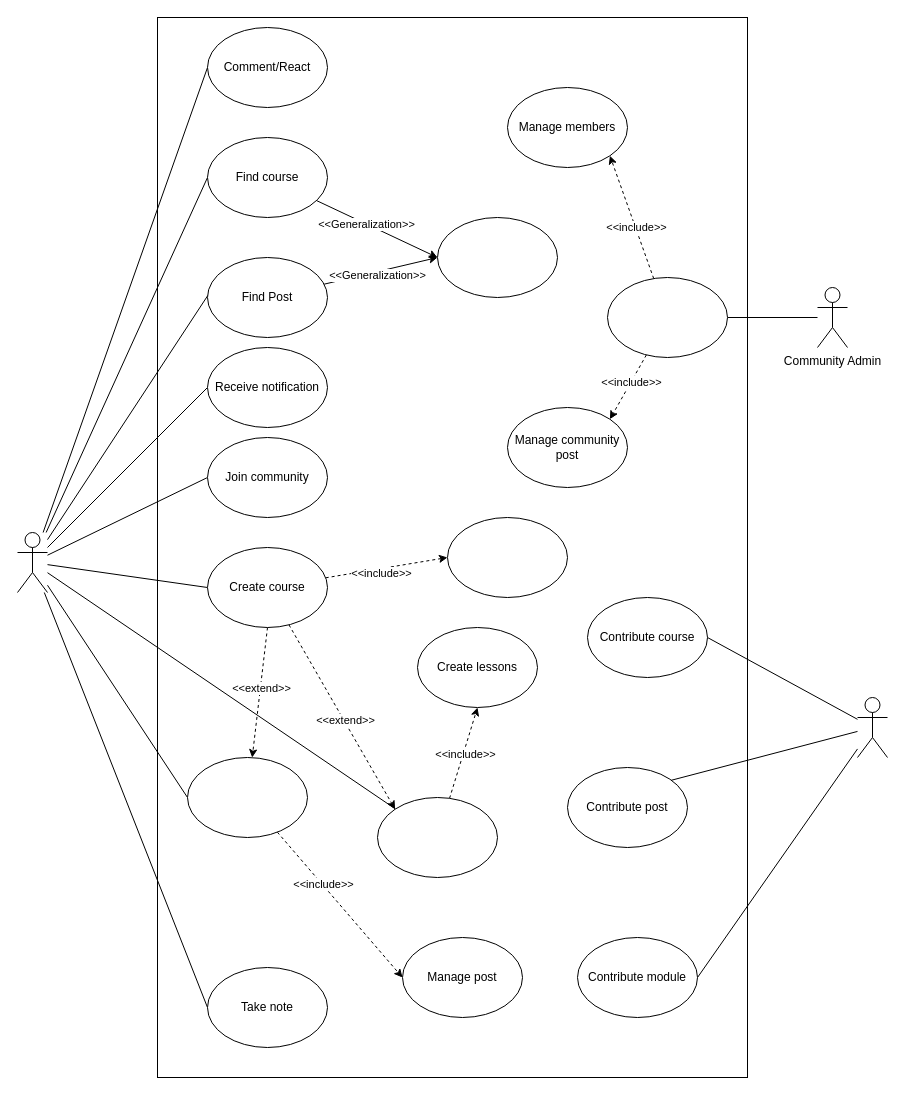
Some shapes in this 919 by 1095 pixel diagram are drawn without their labels. The shapes that lost their labels are listed below. From the top down, each one's centre as x and y in pixels, then its label:
At [497,257]: "Find By Category".
At [667,317]: "Create community".
At [32,562]: "User".
At [507,557]: "Manage course".
At [872,727]: "Contributor".
At [247,797]: "Create post".
At [437,837]: "Create module".
